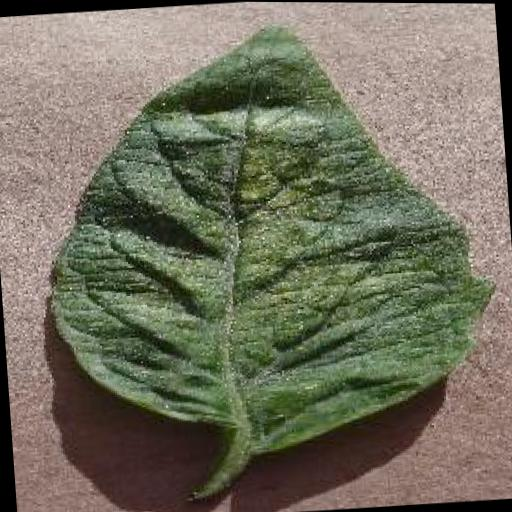Spider Mites: (30, 7, 502, 469)
